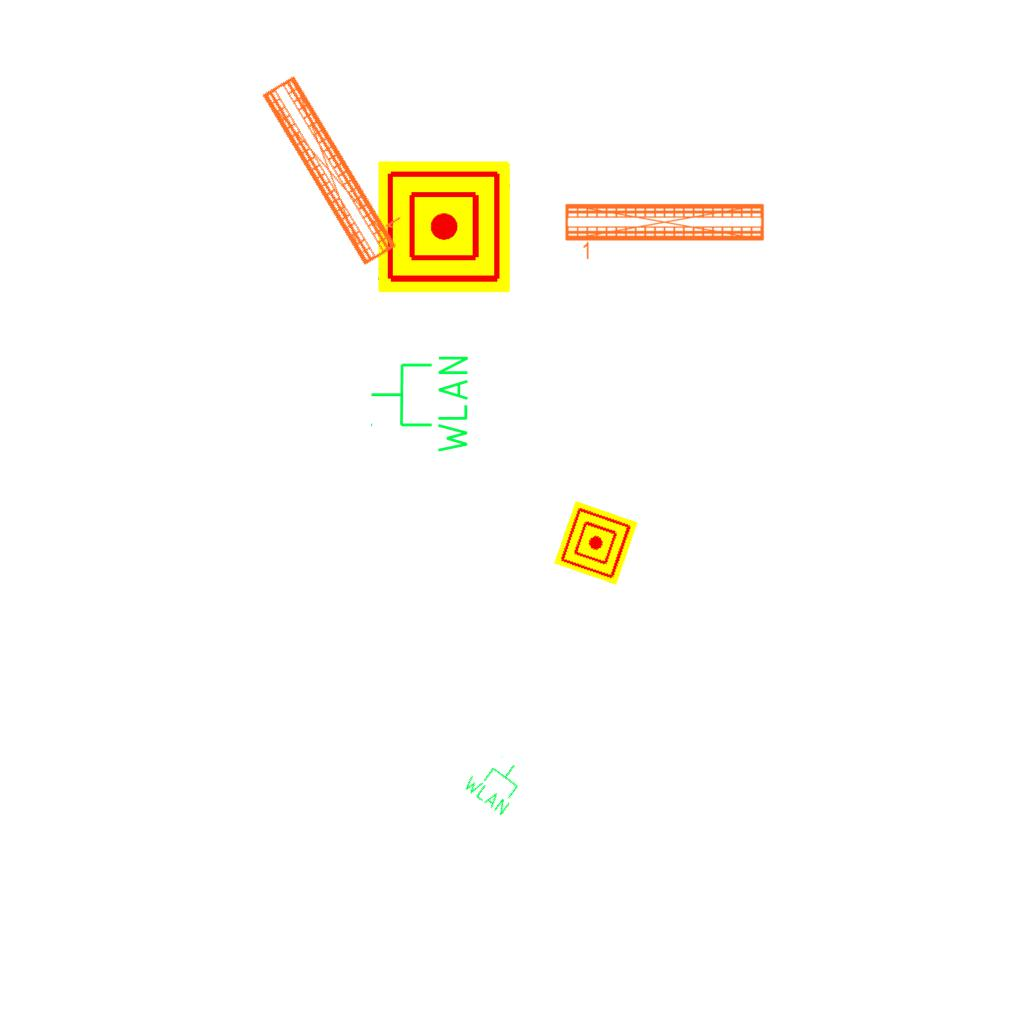Buero_Pendelleuchten_LED: (256, 60, 418, 271), (562, 199, 768, 264)
NAM-Nichtautomatischer_Melder: (378, 161, 510, 293), (554, 501, 638, 585)
WLAN: (368, 352, 472, 457), (459, 745, 533, 819)
